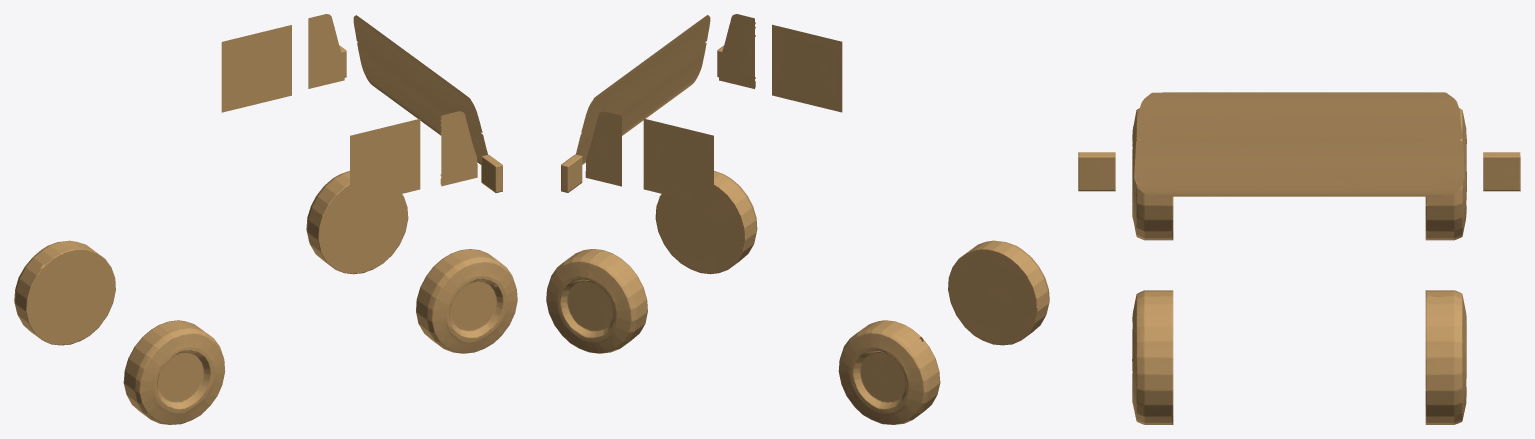
The model's file is truck-b.glb.
3 renders of one model, left to right at view 1: azimuth 30°, elevation 25°; view 2: azimuth 150°, elevation 25°; view 3: azimuth 270°, elevation 25°, orthographic. The views are drawn at different scales.
Parts seen in each view (by area): view 1: Volume B · component 3, Volume B · component 4, Volume B · component 5, Volume B · component 2, Volume B · component 6, Volume B · component 7, Volume B · component 8, Volume B · component 9, Volume B · component 10, Volume B · component 12; view 2: Volume B · component 2, Volume B · component 4, Volume B · component 5, Volume B · component 3, Volume B · component 6, Volume B · component 8, Volume B · component 7, Volume B · component 9, Volume B · component 10, Volume B · component 11; view 3: Volume B · component 6, Volume B · component 2, Volume B · component 3, Volume B · component 5, Volume B · component 4, Volume B · component 11, Volume B · component 12.
Boxes of the visible parts, x1,y1,x2,y2 form: Volume B · component 3: (416,249,517,353); Volume B · component 4: (14,240,115,345); Volume B · component 5: (123,320,225,424); Volume B · component 2: (306,171,408,274); Volume B · component 6: (353,15,487,164); Volume B · component 7: (221,25,291,112); Volume B · component 8: (350,119,420,206); Volume B · component 9: (440,111,477,186); Volume B · component 10: (308,14,344,88); Volume B · component 12: (481,154,502,192); Volume B · component 2: (546,249,647,353); Volume B · component 4: (838,320,940,424); Volume B · component 5: (948,240,1049,345); Volume B · component 3: (655,171,757,274); Volume B · component 6: (576,15,710,164); Volume B · component 8: (772,24,842,112); Volume B · component 7: (643,118,713,206); Volume B · component 9: (719,14,755,88); Volume B · component 10: (585,111,621,186); Volume B · component 11: (561,154,582,192); Volume B · component 6: (1134,92,1464,196); Volume B · component 2: (1425,290,1466,424); Volume B · component 3: (1132,290,1173,424); Volume B · component 5: (1132,108,1173,240); Volume B · component 4: (1425,108,1466,240); Volume B · component 11: (1483,152,1520,191); Volume B · component 12: (1078,152,1115,191).
Size of the model in its own units: 0.745 by 0.4703 by 0.5761.
